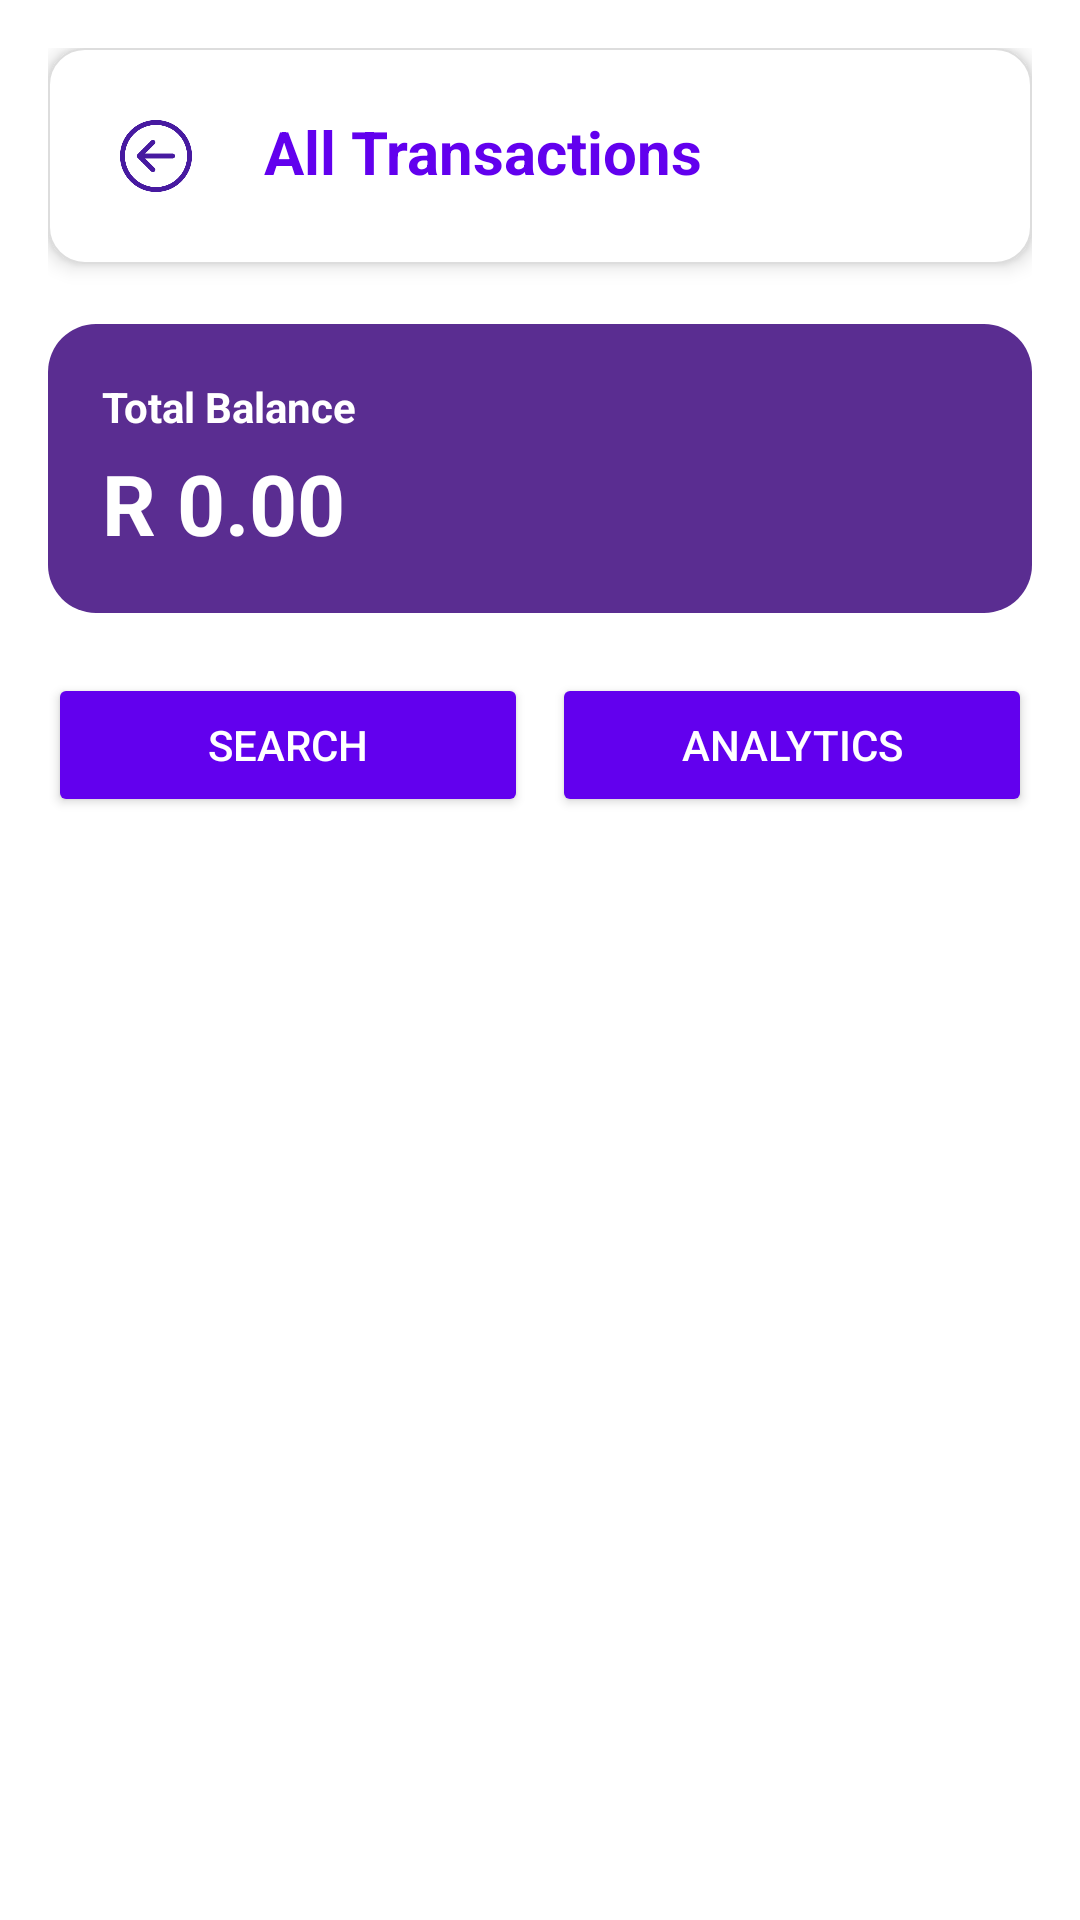

Point at icon controls on the screen. Image size 1080 × 1920, points as (x,y).
back: (156,156)
